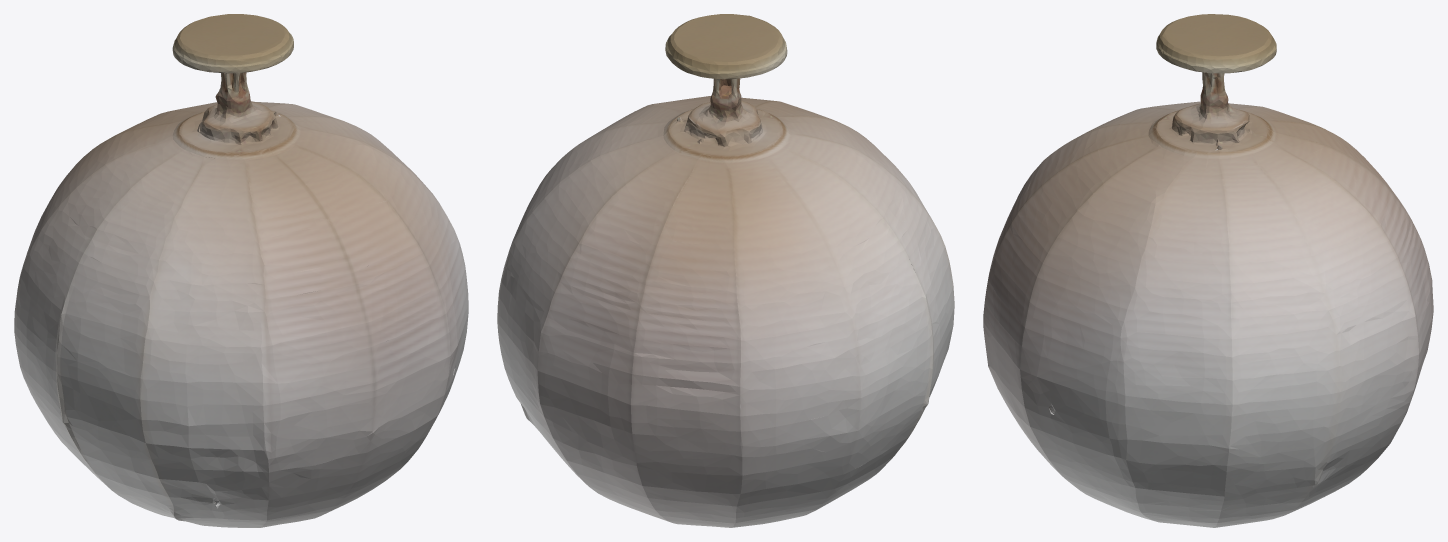
File: 01_bench.glb
The picture shows the model from 3 angles, left to right: view 1: azimuth 30°, elevation 25°; view 2: azimuth 150°, elevation 25°; view 3: azimuth 270°, elevation 25°; orthographic projection.
Parts seen in each view (by area): view 1: geometry_0; view 2: geometry_0; view 3: geometry_0.
Part boxes in pixels (bbox=[...]): geometry_0: bbox=[14, 14, 468, 527]; geometry_0: bbox=[497, 14, 954, 527]; geometry_0: bbox=[983, 14, 1433, 527].
Bounding box in the file's own units: 0.4485 × 0.5106 × 0.4474.
Materials: 1 (1 with a texture image).
